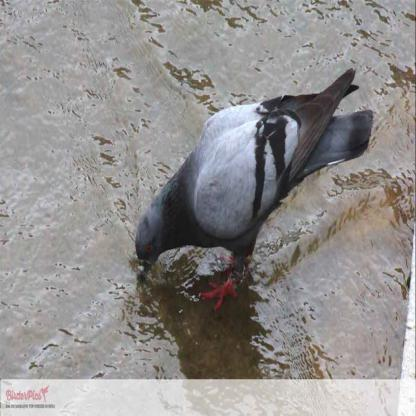Flying Rat: (105, 92, 368, 285)
